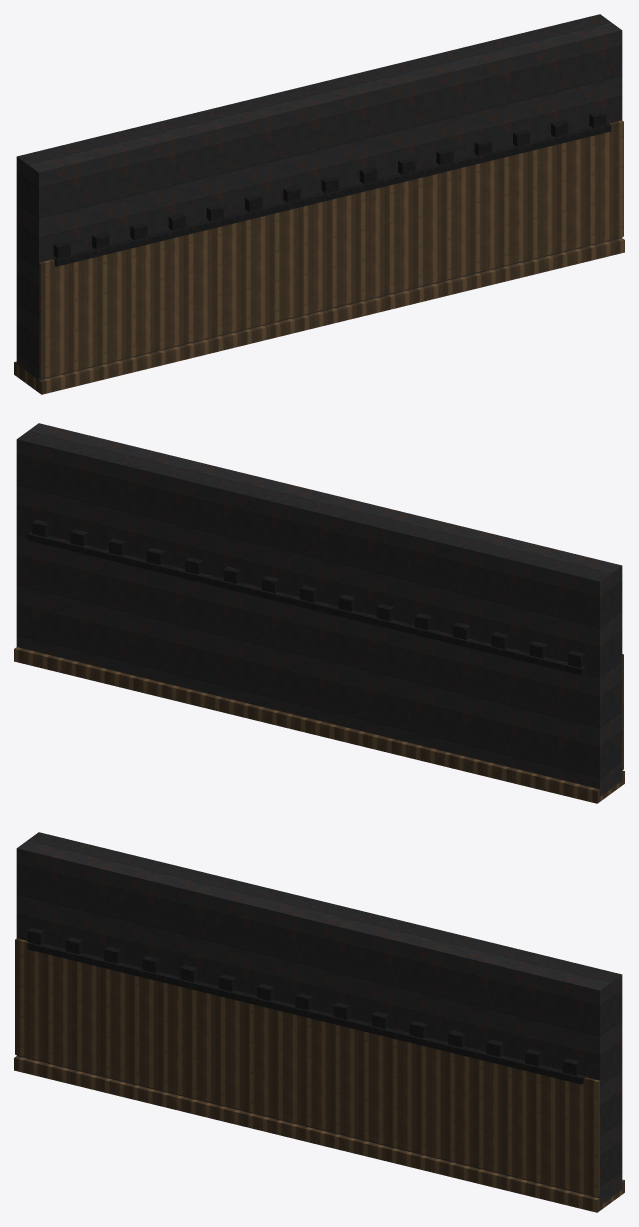
The model's file is B_caisson.glb.
The picture shows the model from 3 angles, top to bottom: view 1: azimuth 30°, elevation 25°; view 2: azimuth 150°, elevation 25°; view 3: azimuth 330°, elevation 25°; orthographic projection.
Parts seen in each view (by area): view 1: B_caisson; view 2: B_caisson; view 3: B_caisson.
Part boxes in pixels (x1=…): B_caisson: x1=14, y1=14, x2=624, y2=394; B_caisson: x1=14, y1=423, x2=624, y2=803; B_caisson: x1=14, y1=832, x2=624, y2=1212.
Bounding box in the file's own units: 24.4 × 8.8 × 2.2.
3 materials, 3 textured.
